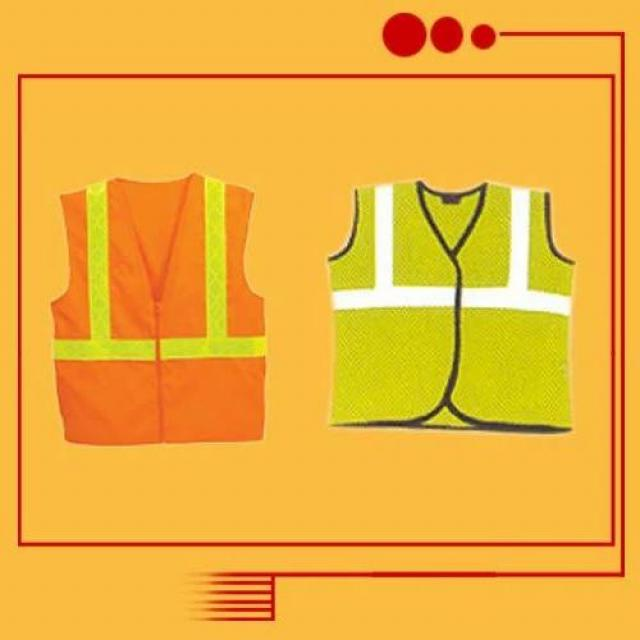Reflective-Jacket: (301, 178, 596, 436), (28, 168, 288, 453)
